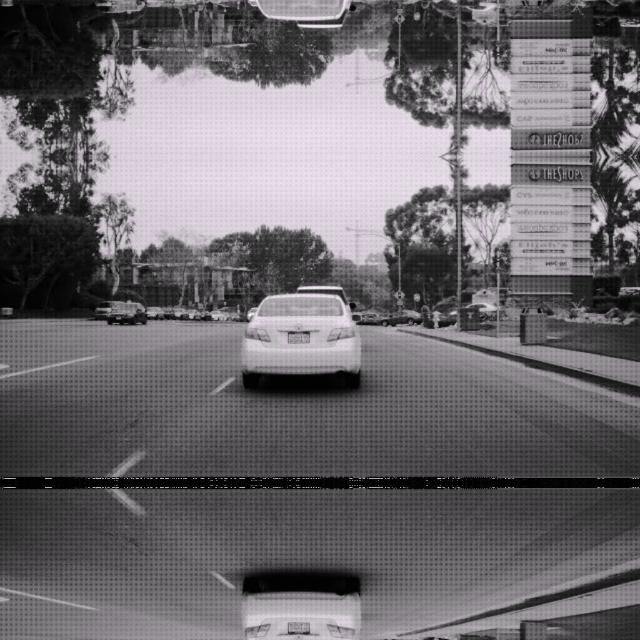signalAhead: (392, 288, 406, 300), (392, 12, 406, 24)
